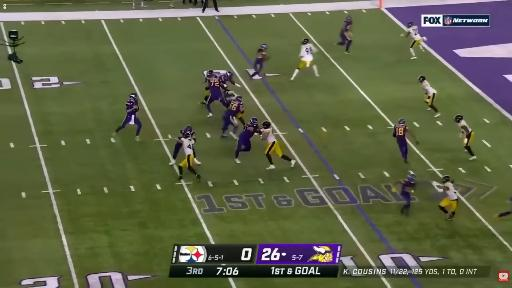Helmet: (407, 174, 416, 183), (263, 120, 271, 129), (455, 115, 463, 123), (443, 175, 451, 183), (302, 38, 309, 45), (184, 133, 191, 140), (419, 76, 426, 83), (251, 118, 257, 126), (130, 93, 137, 99), (260, 44, 267, 50), (186, 126, 192, 133), (399, 119, 406, 125), (210, 75, 218, 79), (236, 97, 242, 102), (227, 72, 232, 78), (408, 22, 413, 28), (208, 71, 213, 75)
Jersey: (263, 128, 282, 157), (207, 75, 225, 99), (458, 120, 474, 146), (299, 43, 316, 61), (226, 101, 243, 117), (254, 49, 266, 71), (240, 124, 257, 139), (219, 71, 234, 87), (421, 80, 436, 96), (444, 183, 458, 200), (393, 125, 407, 142), (408, 26, 422, 42), (458, 120, 472, 134), (182, 139, 194, 155), (401, 179, 415, 192), (263, 128, 275, 143), (126, 99, 137, 115), (408, 26, 421, 39), (407, 25, 419, 37), (179, 130, 195, 139), (225, 91, 237, 102), (342, 20, 352, 33), (214, 70, 227, 77), (412, 34, 421, 40)
Player: (261, 121, 295, 169), (113, 94, 141, 140), (176, 132, 200, 181), (291, 39, 319, 80), (393, 119, 418, 163), (235, 118, 258, 163), (205, 70, 226, 117), (393, 173, 415, 215), (455, 115, 476, 159), (437, 176, 458, 219), (419, 76, 440, 117), (222, 100, 243, 137), (406, 22, 426, 59), (225, 90, 245, 125), (251, 44, 266, 79), (338, 16, 352, 53), (219, 71, 240, 87), (235, 96, 245, 125), (178, 126, 196, 142), (496, 209, 511, 217)
